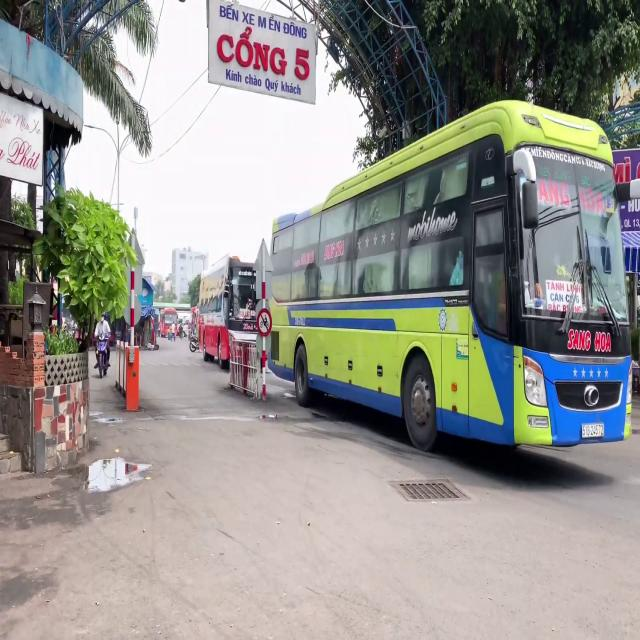bien_trang: (581, 423, 605, 439)
